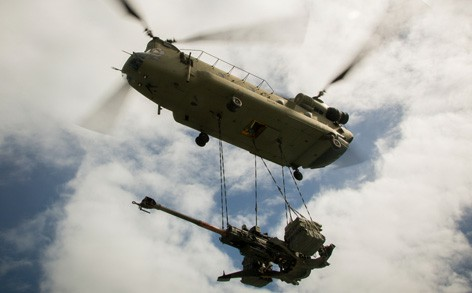chinook: (117, 28, 358, 186)
